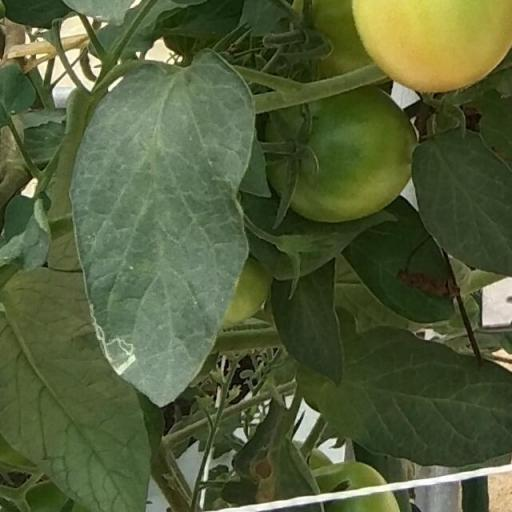Healthy: (296, 320, 512, 469), (405, 124, 512, 279)
Leaf_Miner: (69, 45, 257, 408)
